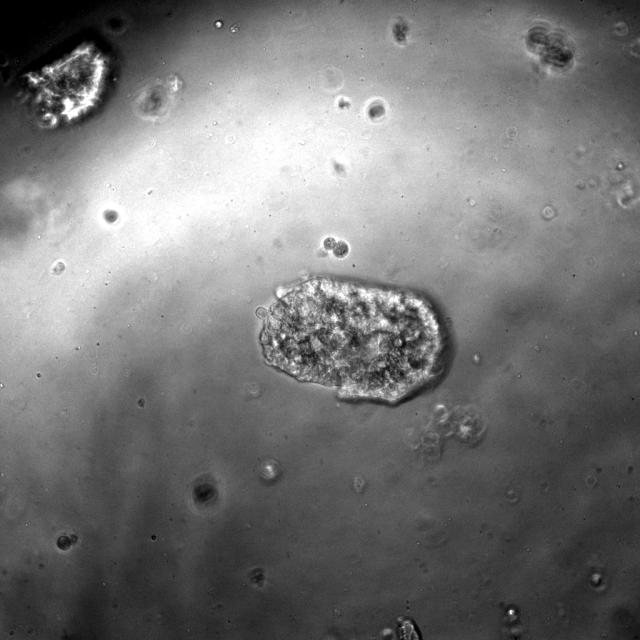organoid: (260, 277, 446, 404), (20, 39, 111, 128), (407, 403, 486, 462), (525, 23, 575, 71), (189, 472, 220, 514), (392, 16, 409, 46), (324, 237, 349, 257), (56, 532, 78, 551), (368, 103, 385, 119), (103, 210, 119, 224), (639, 425, 640, 425)
